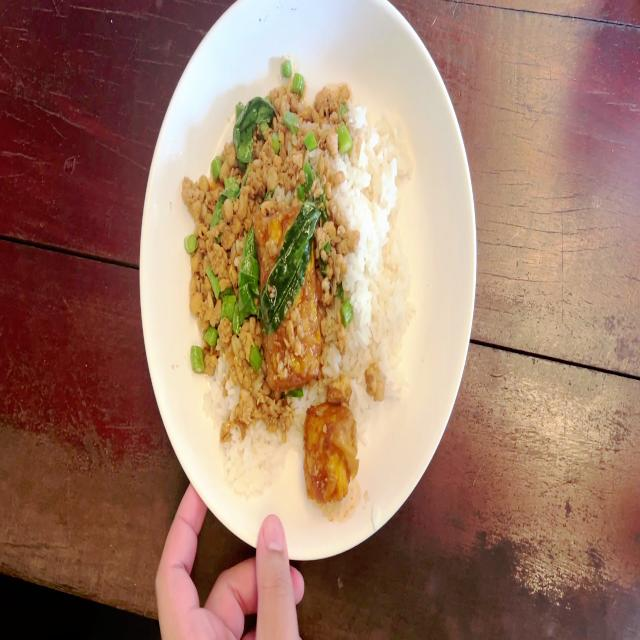fried_tofo: (260, 213, 320, 385), (309, 406, 354, 493)
minced_pork: (184, 88, 262, 430), (258, 62, 354, 203), (316, 207, 349, 356)
rice: (354, 109, 411, 418), (215, 426, 282, 498)
stir_fried_basil: (183, 62, 414, 505)
